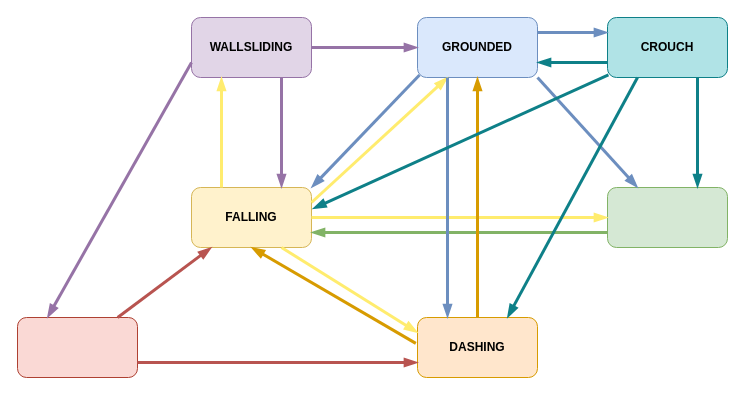
The diagram is 745 pixels wide and 395 high, and some of its shapes have lost their labels. The centre of each missing label's shape, as x and y in pixels:
JUMPING: pixel 667 217
WALLJUMPING: pixel 77 347
